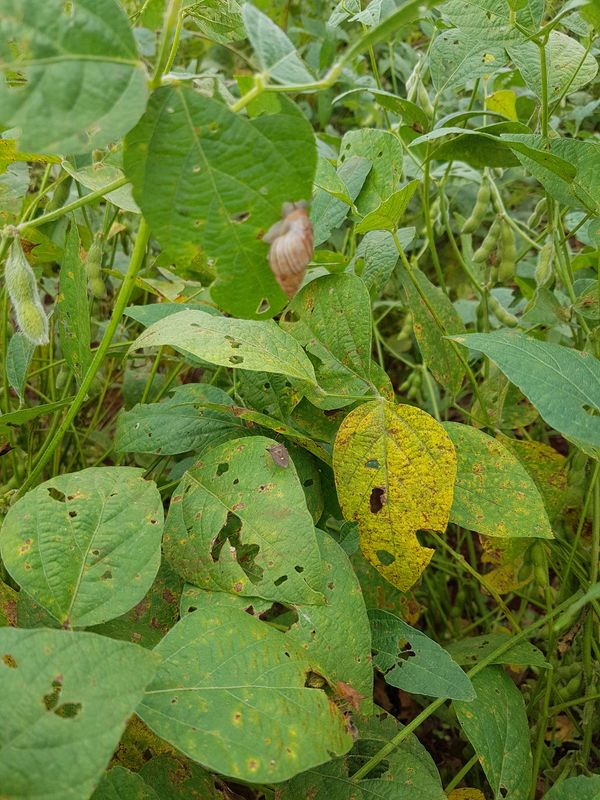Euschistus_heros_adulto: (327, 676, 372, 722), (261, 437, 295, 474)
Gastropoda: (252, 194, 328, 305)
